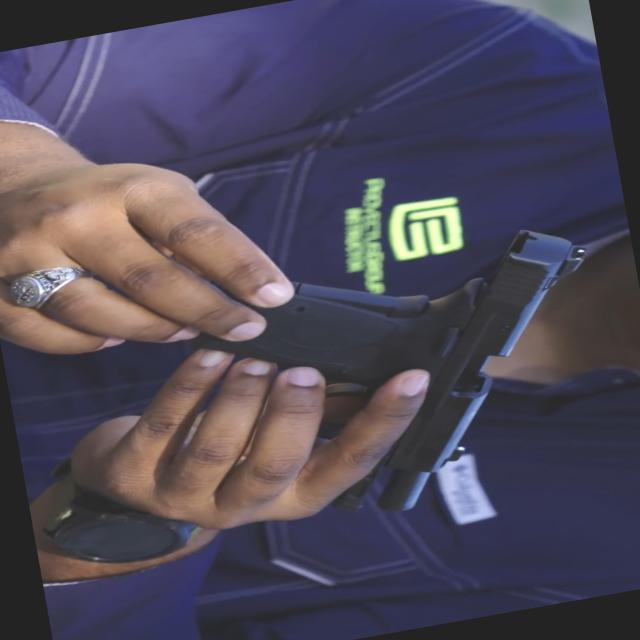handgun: (162, 203, 639, 556)
